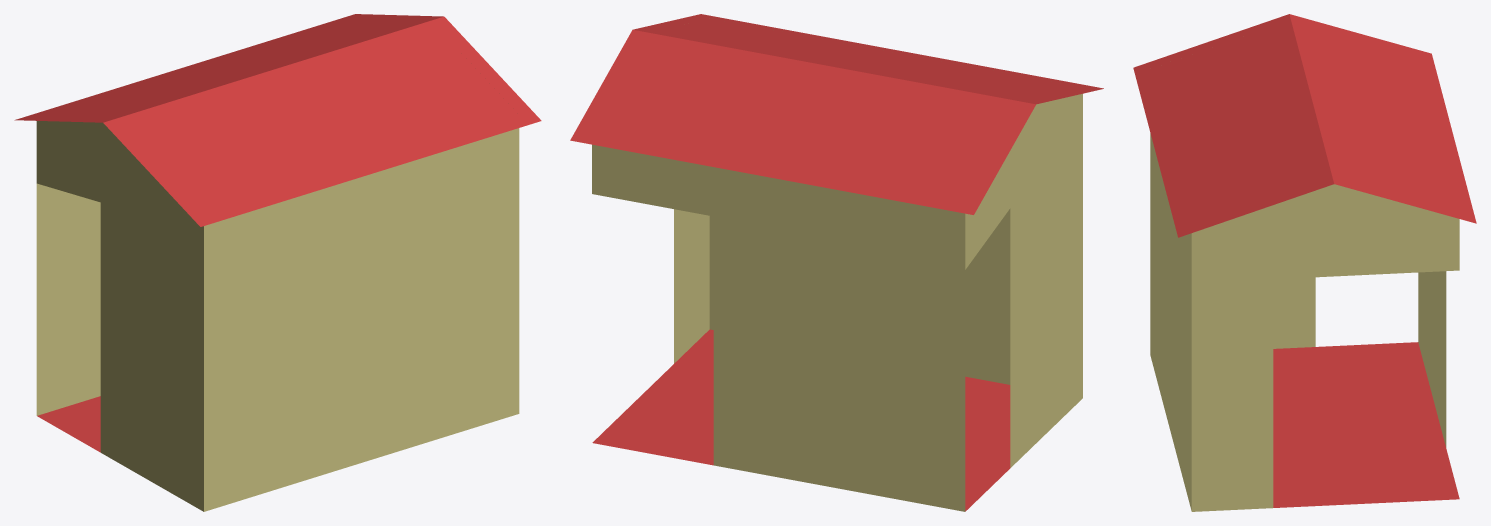
3 views of the same model, side by side, from view 1: azimuth 30°, elevation 25°; view 2: azimuth 150°, elevation 25°; view 3: azimuth 270°, elevation 25° (orthographic). The views are drawn at different scales.
Size of the model in its own units: 14.14 by 11.15 by 11.73.
